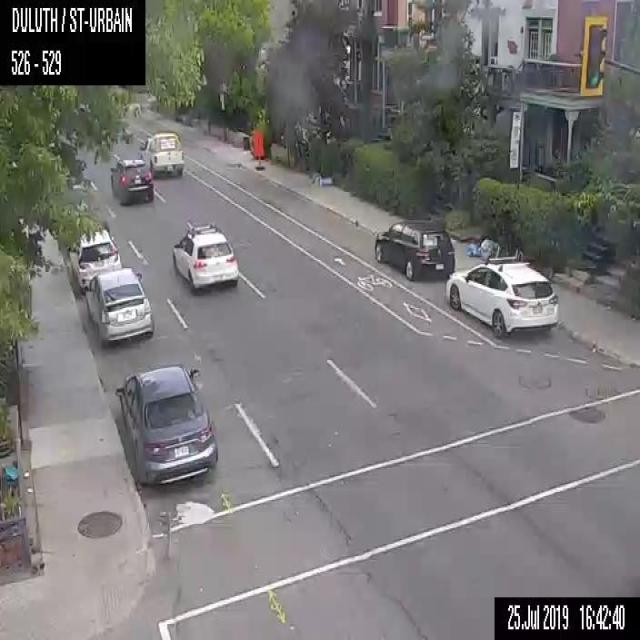construction: (253, 128, 264, 169)
vehicle: (114, 364, 218, 487), (446, 257, 560, 339), (86, 266, 154, 346), (374, 219, 454, 281), (172, 220, 236, 292), (68, 226, 123, 291), (108, 157, 154, 204), (140, 131, 184, 175)
